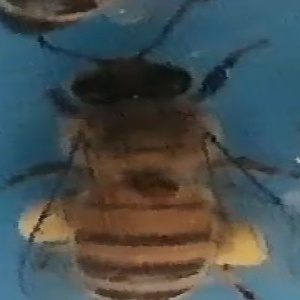bee: (15, 41, 292, 300)
